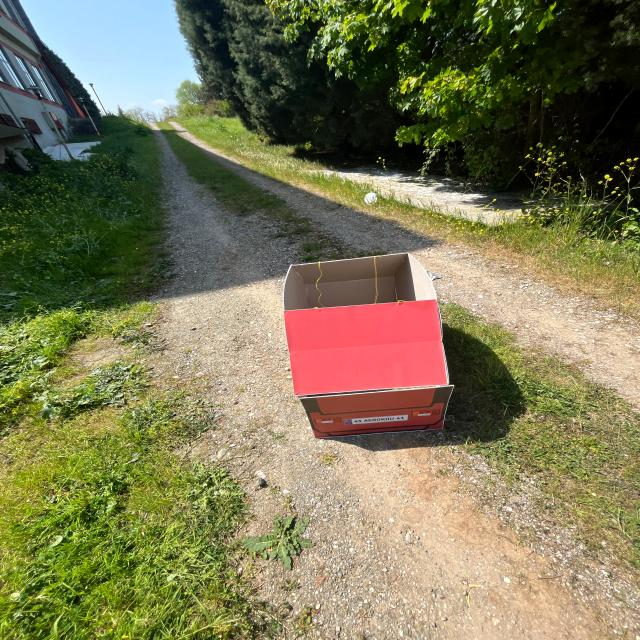red_car: (270, 248, 463, 442)
